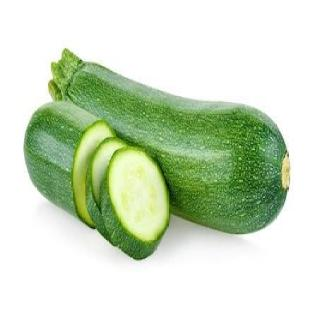Zucchini: (50, 51, 289, 232), (24, 102, 114, 226), (101, 147, 169, 259), (86, 137, 126, 239)
